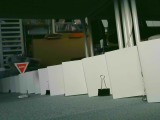stop: (13, 62, 29, 75)
